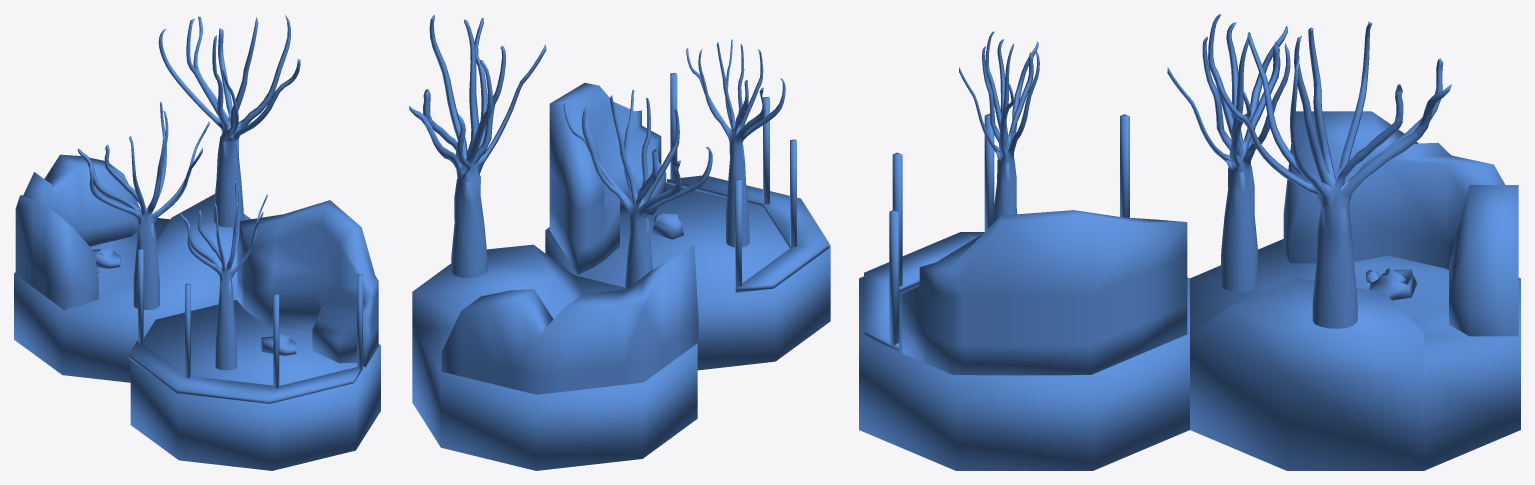
File: Zoo_WolfEnclosure.fbx
3 views of the same model, side by side, from view 1: azimuth 30°, elevation 25°; view 2: azimuth 150°, elevation 25°; view 3: azimuth 270°, elevation 25° (orthographic). The views are drawn at different scales.
Parts seen in each view (by area): view 1: Zoo_WolfEnclosure; view 2: Zoo_WolfEnclosure; view 3: Zoo_WolfEnclosure.
Boxes of the visible parts, box(x1,y1,x2,y2) form: Zoo_WolfEnclosure: box(14, 15, 380, 470); Zoo_WolfEnclosure: box(409, 14, 830, 470); Zoo_WolfEnclosure: box(859, 14, 1520, 470).
Size of the model in its own units: 723 by 911 by 1260.
